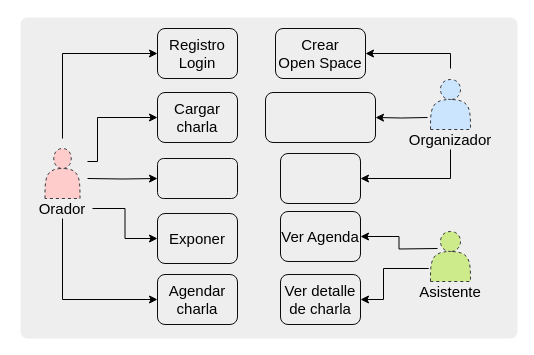
This 534x355 diagram has some shape labels left out. Here are the shapes that lost their labels. From the top down, the centre of each, then its label:
At pixel 320 117: "Activar encolamiento".
At pixel 197 178: "Encolarse".
At pixel 320 178: "Mostrar charla".
